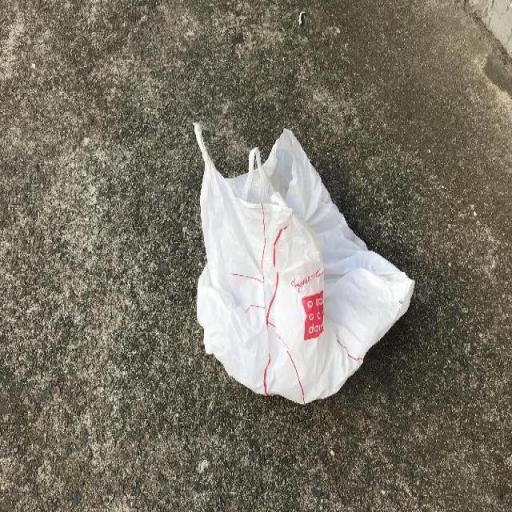plastic-bag: (196, 130, 423, 414)
